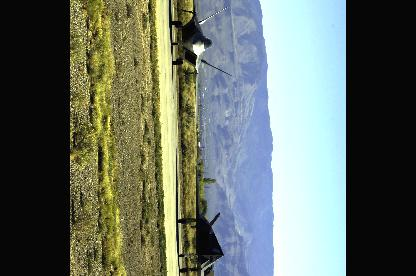E7: (178, 163, 225, 275)
F18: (171, 0, 234, 123)
